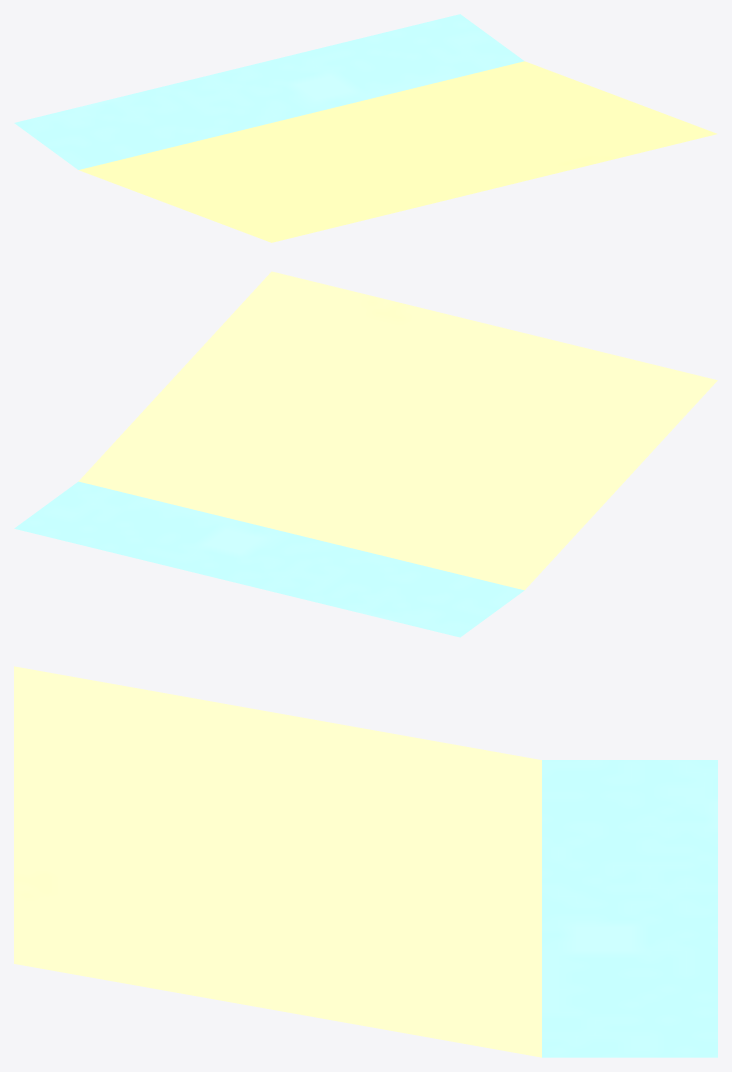
File: beach_tile_1x1_7.glb
3 renders of one model, top to bottom at view 1: azimuth 30°, elevation 25°; view 2: azimuth 150°, elevation 25°; view 3: azimuth 270°, elevation 25°, orthographic. The views are drawn at different scales.
Visible parts, largest first — view 1: beach_tile_1x1_7(Clone); view 2: beach_tile_1x1_7(Clone); view 3: beach_tile_1x1_7(Clone).
Part boxes in pixels (x1=…): beach_tile_1x1_7(Clone): x1=14, y1=14, x2=716, y2=242; beach_tile_1x1_7(Clone): x1=14, y1=271, x2=717, y2=637; beach_tile_1x1_7(Clone): x1=14, y1=666, x2=717, y2=1057.
Size of the model in its own units: 8 by 1.18 by 8.
Materials: 1 (1 with a texture image).
